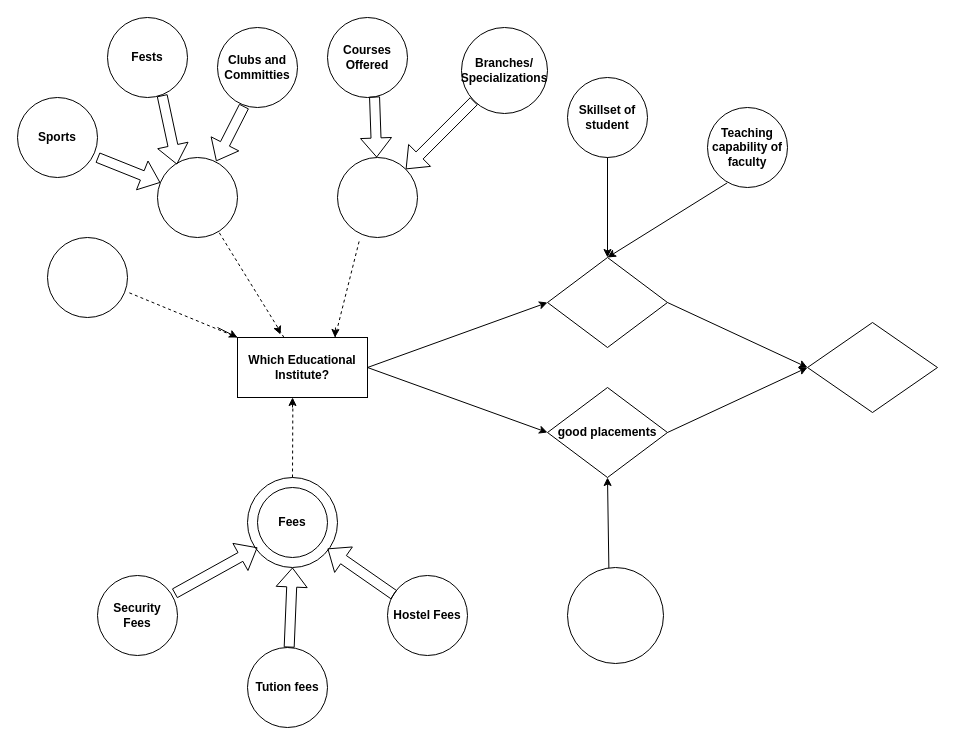
This 955x745 diagram has some shape labels left out. The shapes that lost their labels are listed below. From the top down, each one's box as (x1, y1, x2, y2) in pixels, then its label:
(156, 156, 238, 238): Extra curricular activities
(336, 156, 418, 238): Acadmics
(46, 236, 128, 318): Reputation of the institute
(546, 256, 668, 348): Quality Education
(806, 322, 938, 412): Career Progression
(566, 566, 664, 664): Placement of current batch
